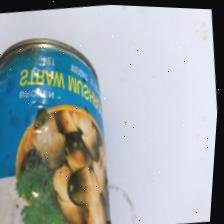metal: (0, 22, 140, 224)
